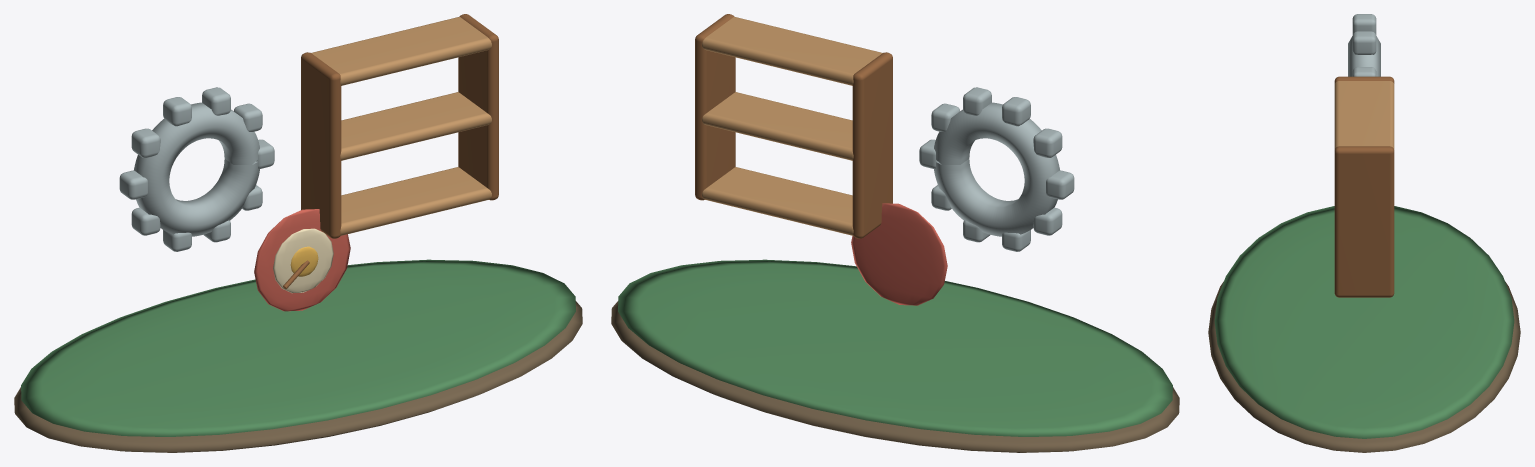
The model's file is complete-second-specialized-work.glb.
The picture shows the model from 3 angles, left to right: view 1: azimuth 30°, elevation 25°; view 2: azimuth 150°, elevation 25°; view 3: azimuth 270°, elevation 25°; orthographic projection. The views are drawn at different scales.
Parts seen in each view (by area): view 1: complete-second-specialized-work_surface_01, complete-second-specialized-work_surface_03, complete-second-specialized-work_surface_02, complete-second-specialized-work_surface_04, complete-second-specialized-work_surface_00, complete-second-specialized-work_surface_05, complete-second-specialized-work_surface_06, complete-second-specialized-work_surface_07; view 2: complete-second-specialized-work_surface_01, complete-second-specialized-work_surface_03, complete-second-specialized-work_surface_02, complete-second-specialized-work_surface_04, complete-second-specialized-work_surface_00, complete-second-specialized-work_surface_05; view 3: complete-second-specialized-work_surface_01, complete-second-specialized-work_surface_04, complete-second-specialized-work_surface_00, complete-second-specialized-work_surface_03, complete-second-specialized-work_surface_02.
Part boxes in pixels (x1,y1,x2,y2): complete-second-specialized-work_surface_01: [21, 259, 575, 436]; complete-second-specialized-work_surface_03: [311, 17, 491, 235]; complete-second-specialized-work_surface_02: [119, 87, 274, 251]; complete-second-specialized-work_surface_04: [283, 14, 498, 289]; complete-second-specialized-work_surface_00: [14, 301, 582, 452]; complete-second-specialized-work_surface_05: [254, 209, 350, 311]; complete-second-specialized-work_surface_06: [273, 228, 333, 293]; complete-second-specialized-work_surface_07: [290, 246, 318, 276]; complete-second-specialized-work_surface_01: [618, 259, 1172, 436]; complete-second-specialized-work_surface_03: [702, 17, 882, 235]; complete-second-specialized-work_surface_02: [919, 87, 1074, 251]; complete-second-specialized-work_surface_04: [695, 14, 892, 238]; complete-second-specialized-work_surface_00: [611, 301, 1179, 452]; complete-second-specialized-work_surface_05: [851, 203, 947, 305]; complete-second-specialized-work_surface_01: [1214, 206, 1514, 438]; complete-second-specialized-work_surface_04: [1334, 76, 1394, 297]; complete-second-specialized-work_surface_00: [1208, 281, 1520, 452]; complete-second-specialized-work_surface_03: [1334, 81, 1394, 149]; complete-second-specialized-work_surface_02: [1348, 14, 1380, 76].
Bounding box in the file's own units: 4.56 × 2.47 × 2.5.
